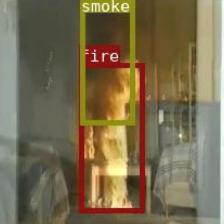fire: (78, 62, 144, 212)
smoke: (79, 0, 133, 124)
